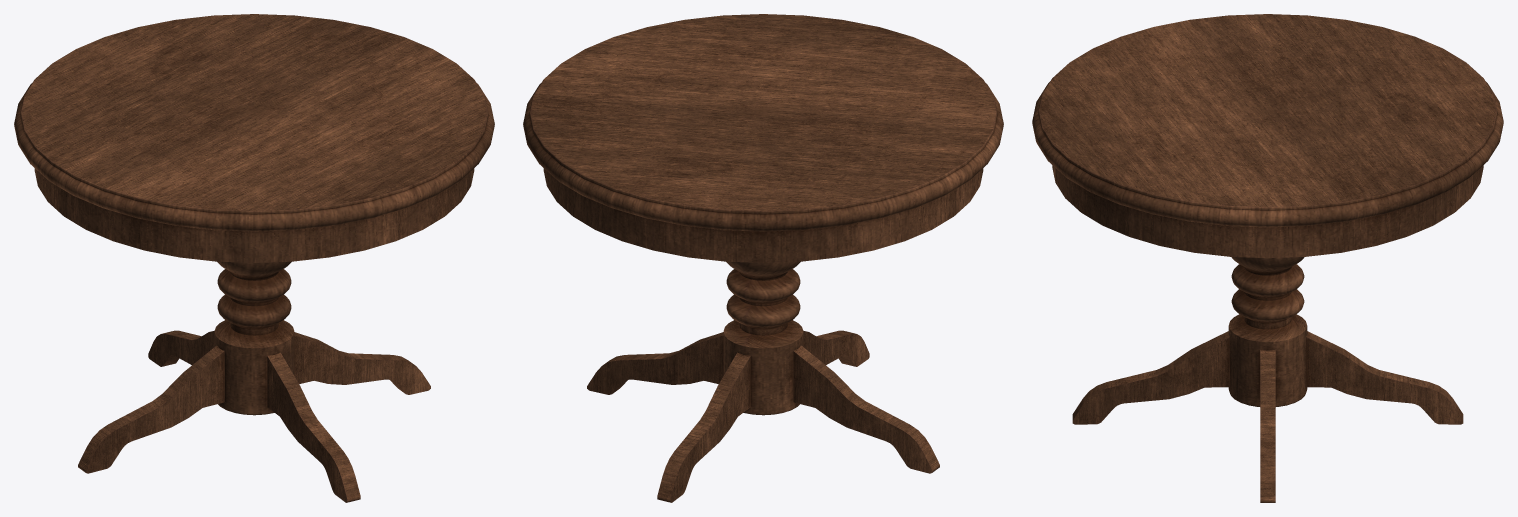
File: table.glb
The picture shows the model from 3 angles, left to right: view 1: azimuth 30°, elevation 25°; view 2: azimuth 150°, elevation 25°; view 3: azimuth 270°, elevation 25°; orthographic projection.
Parts seen in each view (by area): view 1: pCylinder6; view 2: pCylinder6; view 3: pCylinder6.
Boxes of the visible parts, box(x1,y1,x2,y2) form: pCylinder6: box(14, 14, 494, 502); pCylinder6: box(523, 14, 1003, 502); pCylinder6: box(1032, 14, 1503, 502).
Size of the model in its own units: 4.53 by 3.3 by 4.53.
Materials: 1 (1 with a texture image).
